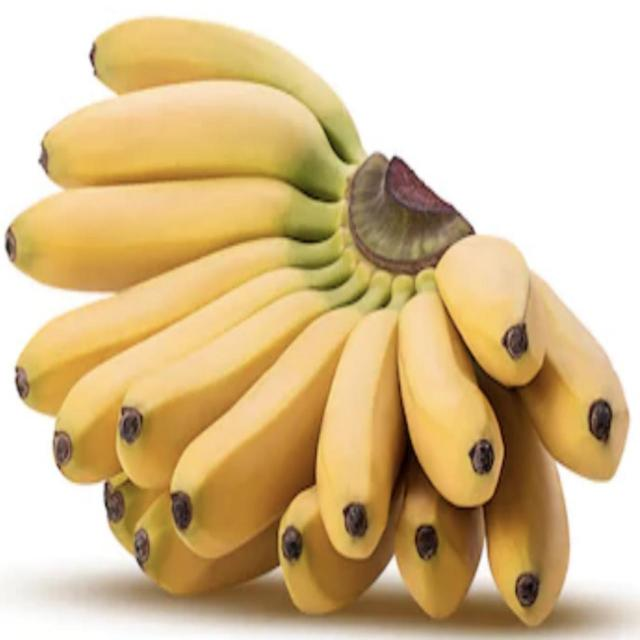banana: (184, 263, 344, 568), (105, 275, 322, 484), (89, 3, 370, 148), (436, 209, 562, 379)
